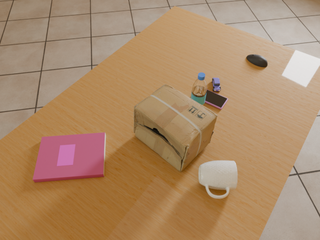book: (33, 133, 106, 182)
bottle: (191, 73, 207, 106)
box: (134, 85, 217, 171)
cup: (199, 161, 237, 199)
mouse: (247, 54, 268, 67)
phone: (205, 90, 228, 109)
toy_car: (212, 78, 221, 91)
